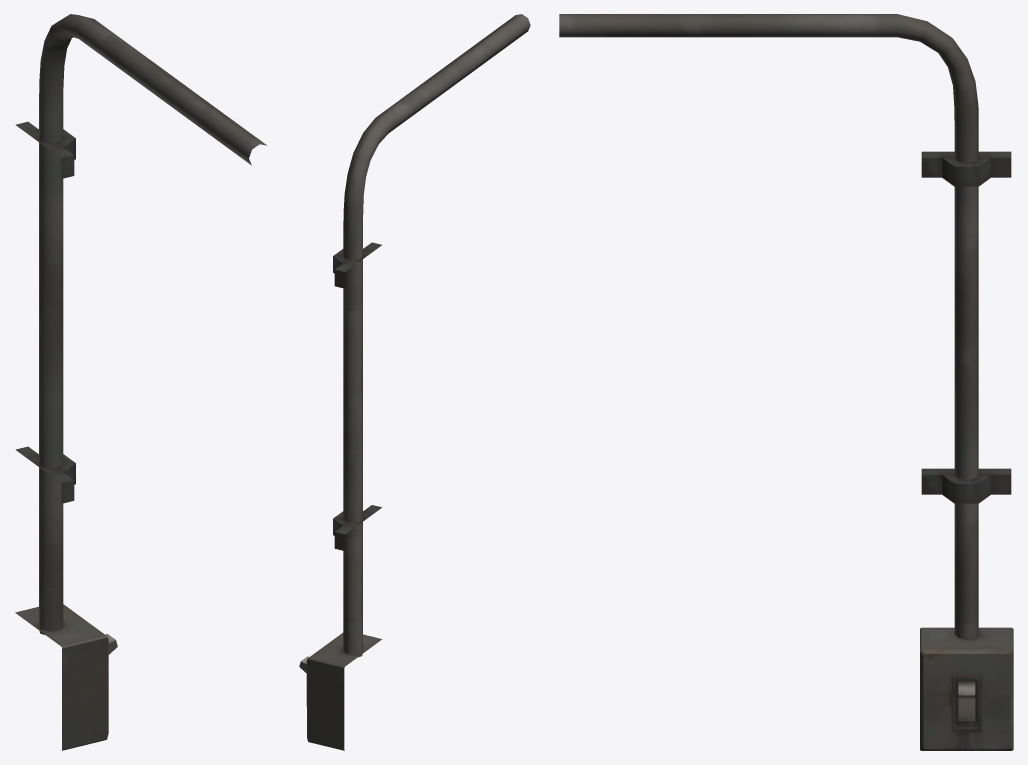
The picture shows the model from 3 angles, left to right: view 1: azimuth 30°, elevation 25°; view 2: azimuth 150°, elevation 25°; view 3: azimuth 270°, elevation 25°; orthographic projection. The views are drawn at different scales.
Visible parts, largest first — view 1: body0_model0_lod0_mesh0; view 2: body0_model0_lod0_mesh0; view 3: body0_model0_lod0_mesh0.
Boxes of the visible parts, <box> form: body0_model0_lod0_mesh0: <box>15,14,266,750</box>; body0_model0_lod0_mesh0: <box>299,14,530,750</box>; body0_model0_lod0_mesh0: <box>559,14,1013,750</box>.
Size of the model in its own units: 8.52 by 79.74 by 45.5.
Materials: 1 (1 with a texture image).
